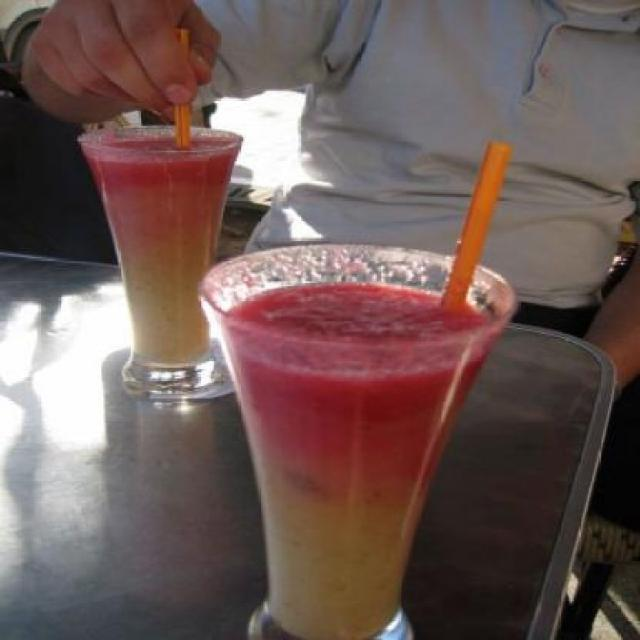Juice: (222, 276, 493, 639), (70, 132, 239, 370)
